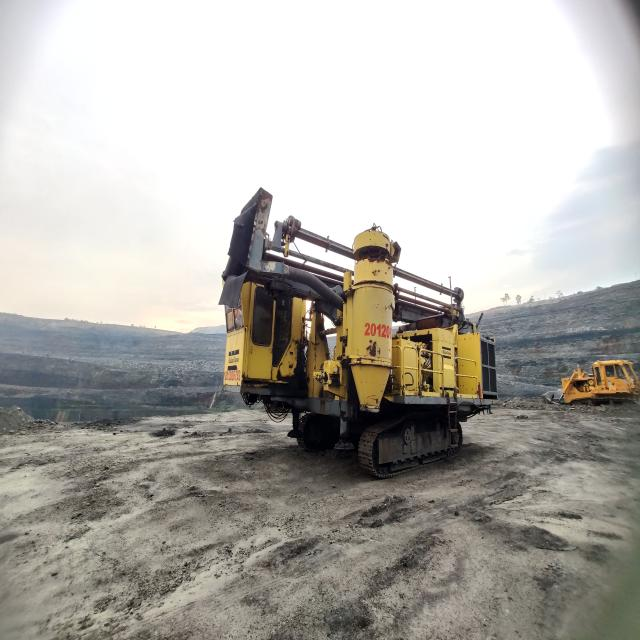buldozerpayloadergrader: (541, 359, 640, 406)
